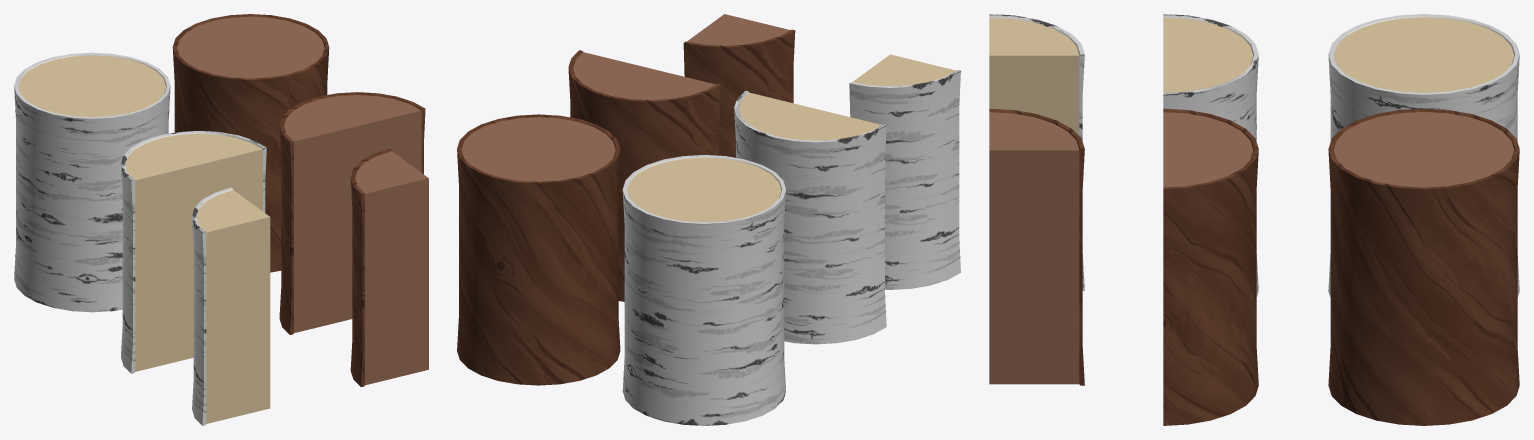
Rendered from LogsForChopping.fbx.
3 renders of one model, left to right at view 1: azimuth 30°, elevation 25°; view 2: azimuth 150°, elevation 25°; view 3: azimuth 270°, elevation 25°, orthographic. The views are drawn at different scales.
Visible parts, largest first — view 1: BirchLogFull, BirchLogHalf, PineLogHalf, PineLogFull, BirchLogQuarter, PineLogQuarter; view 2: BirchLogFull, PineLogFull, BirchLogHalf, BirchLogQuarter, PineLogHalf, PineLogQuarter; view 3: PineLogFull, PineLogHalf, PineLogQuarter, BirchLogFull, BirchLogHalf, BirchLogQuarter.
Part boxes in pixels (x1,y1,x2,y2): BirchLogFull: (14, 52, 170, 312); BirchLogHalf: (121, 131, 266, 373); PineLogHalf: (279, 92, 425, 334); PineLogFull: (172, 14, 329, 272); BirchLogQuarter: (192, 187, 270, 425); PineLogQuarter: (350, 148, 428, 387); BirchLogFull: (622, 155, 785, 425); PineLogFull: (457, 114, 620, 385); BirchLogHalf: (734, 90, 886, 344); BirchLogQuarter: (849, 54, 960, 289); PineLogHalf: (568, 50, 720, 301); PineLogQuarter: (683, 14, 795, 157); PineLogFull: (1328, 108, 1519, 425); PineLogHalf: (1163, 108, 1258, 425); PineLogQuarter: (989, 108, 1084, 385); BirchLogFull: (1328, 14, 1519, 297); BirchLogHalf: (1163, 14, 1258, 296); BirchLogQuarter: (989, 14, 1084, 290).
Bounding box in the file's own units: 47.75 × 30 × 61.
